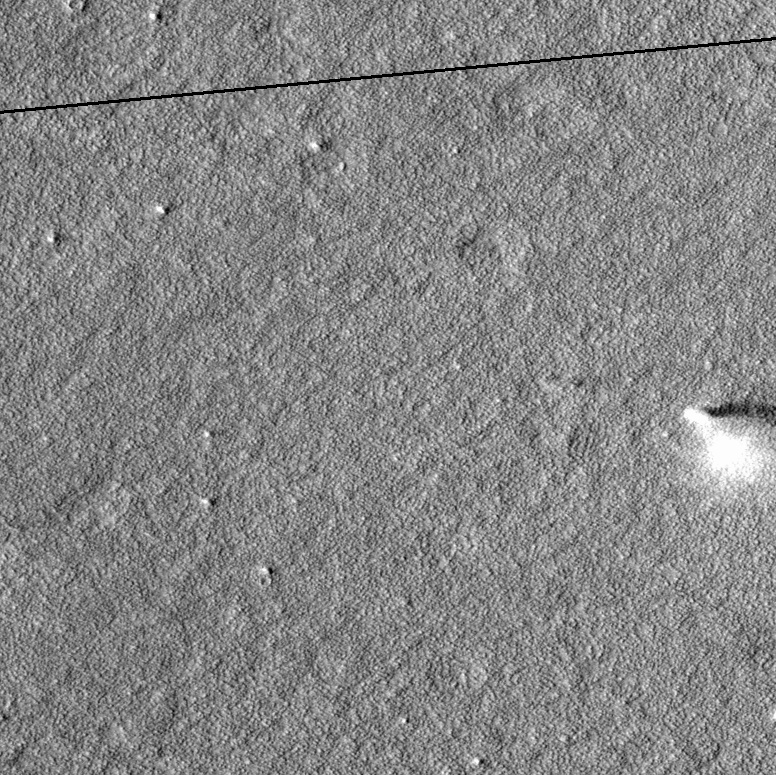dust_devil: (680, 398, 776, 485)
